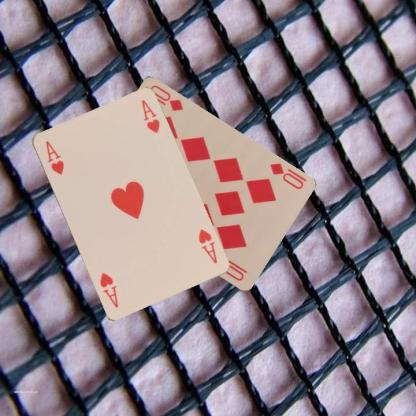10d: (267, 160, 304, 191)
Ah: (42, 138, 65, 176), (196, 226, 218, 265)
